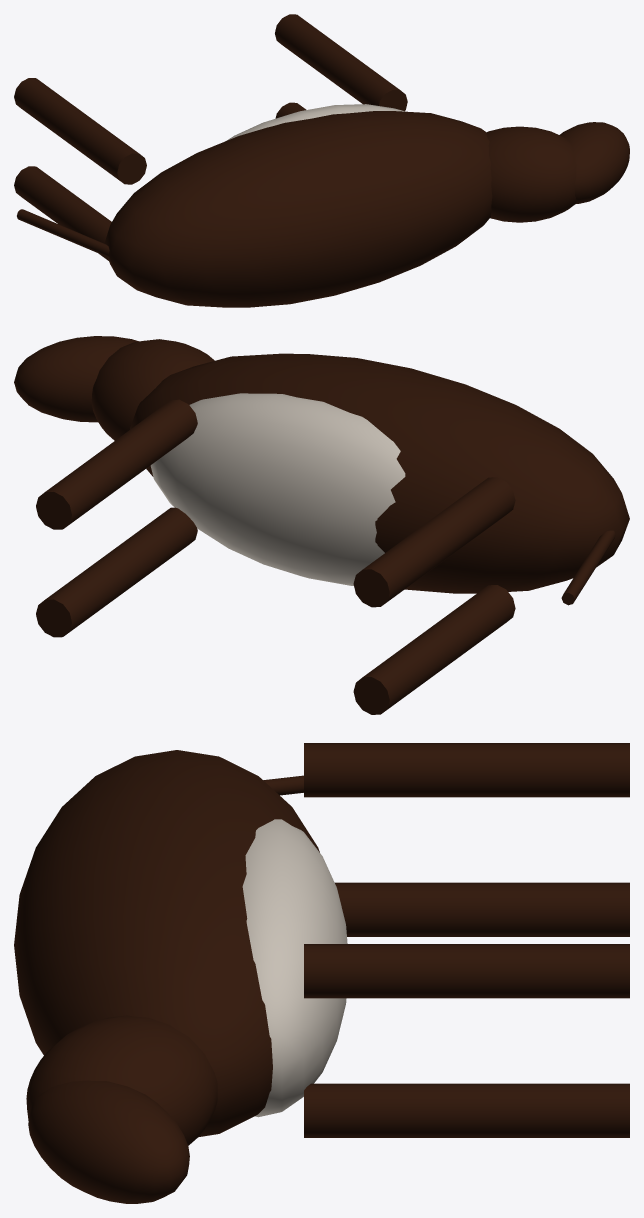
Rendered from cow.obj.
3 renders of one model, top to bottom at view 1: azimuth 30°, elevation 25°; view 2: azimuth 150°, elevation 25°; view 3: azimuth 270°, elevation 25°, orthographic. The views are drawn at different scales.
Visible parts, largest first — view 1: obstacle_cow; view 2: obstacle_cow; view 3: obstacle_cow.
Boxes of the visible parts, bbox=[...] form: obstacle_cow: bbox=[14, 14, 629, 307]; obstacle_cow: bbox=[14, 336, 629, 714]; obstacle_cow: bbox=[14, 743, 629, 1203].
Size of the model in its own units: 2.14 by 0.6 by 1.36.
